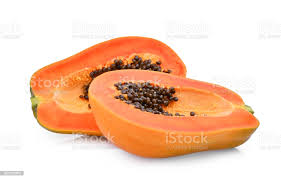papaya: (30, 36, 187, 135), (89, 68, 259, 159)
